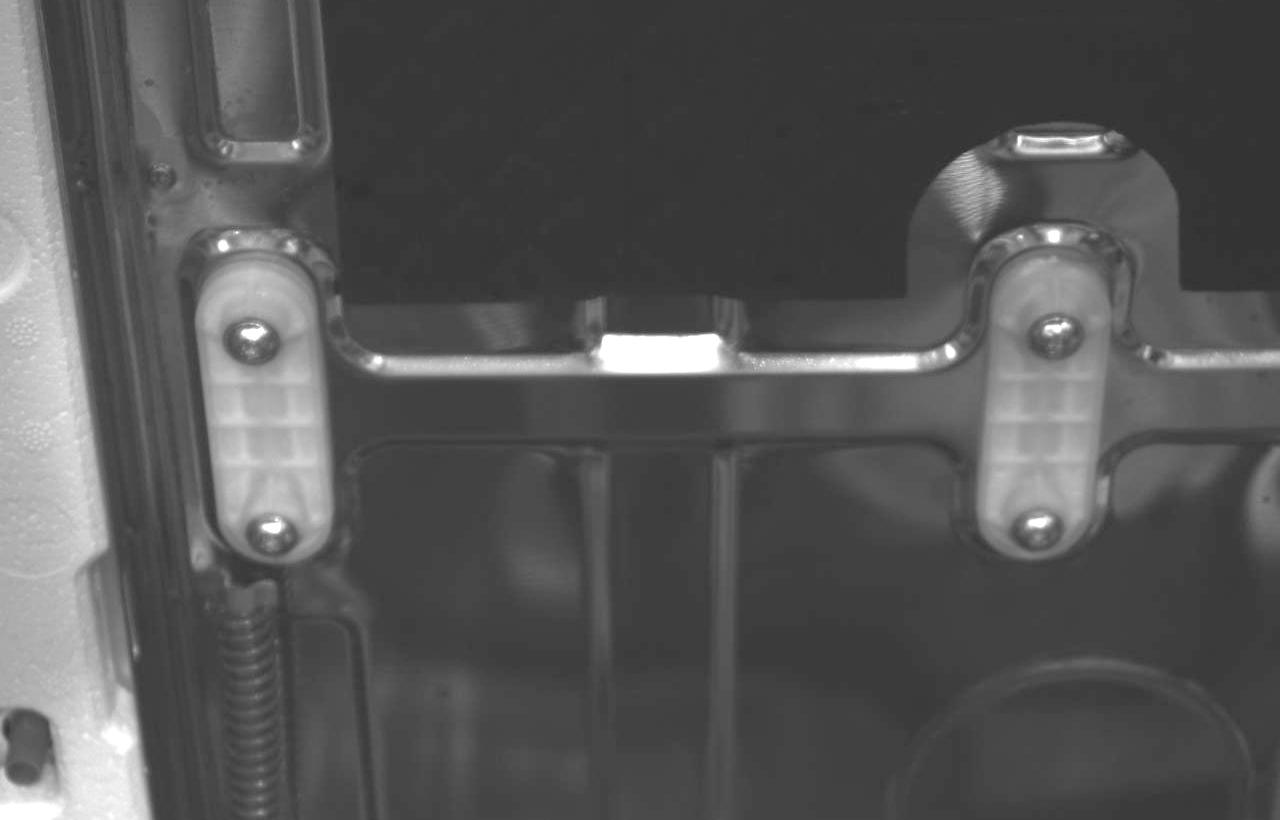vida-ok: (214, 302, 286, 369), (1023, 304, 1090, 371), (1006, 492, 1071, 561), (241, 504, 307, 562)
